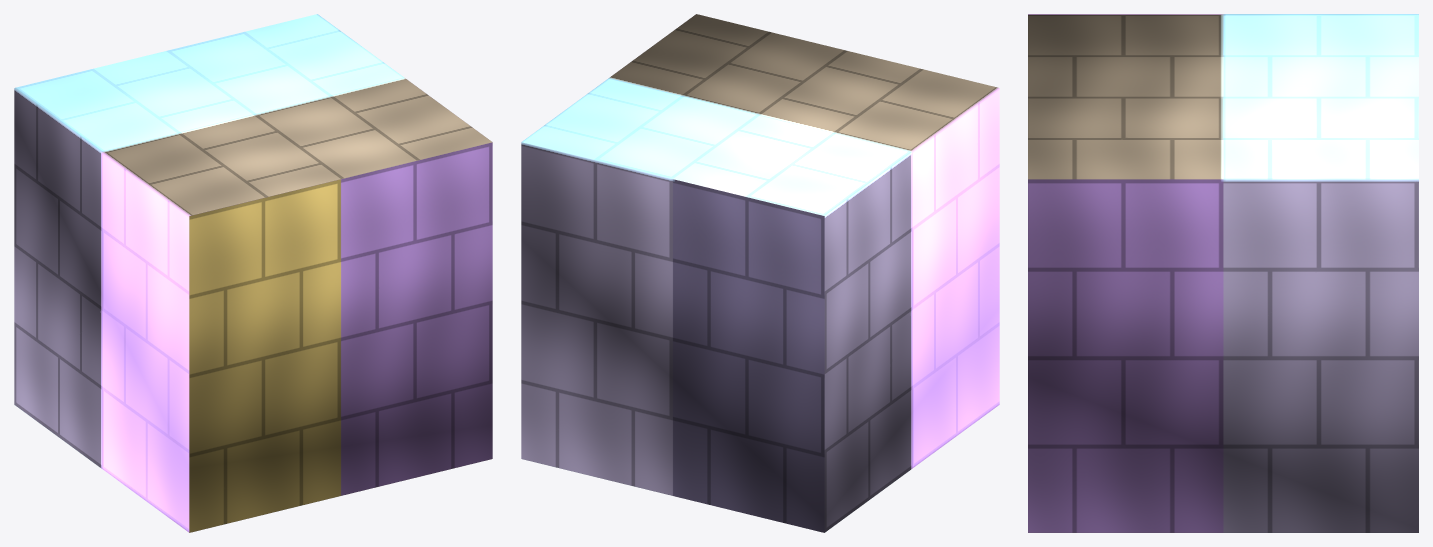
Rendered from wall_stone_corner.glb.
3 renders of one model, left to right at view 1: azimuth 30°, elevation 25°; view 2: azimuth 150°, elevation 25°; view 3: azimuth 270°, elevation 25°, orthographic. The views are drawn at different scales.
Parts seen in each view (by area): view 1: col; view 2: col; view 3: col.
Boxes of the visible parts, x1=… form: col: x1=14, y1=14, x2=492, y2=532; col: x1=521, y1=14, x2=999, y2=532; col: x1=1028, y1=14, x2=1418, y2=532.
Bounding box in the file's own units: 1.99 × 1.98 × 1.99.
Materials: 1 (1 with a texture image).
